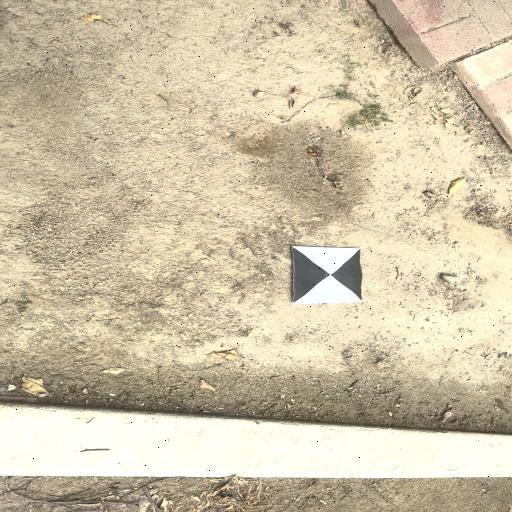target: (292, 246, 362, 302)
